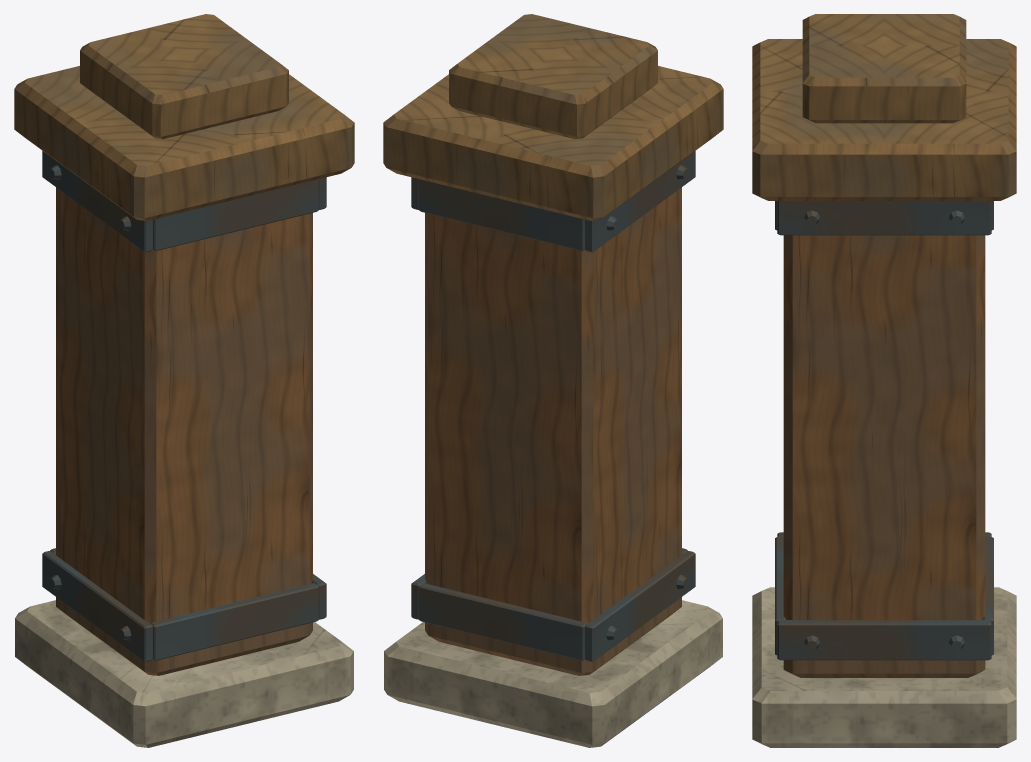
Rendered from b04_pillar.fbx.
3 renders of one model, left to right at view 1: azimuth 30°, elevation 25°; view 2: azimuth 150°, elevation 25°; view 3: azimuth 270°, elevation 25°, orthographic. The views are drawn at different scales.
Visible parts, largest first — view 1: b04_pillar; view 2: b04_pillar; view 3: b04_pillar.
Part boxes in pixels (x1,y1,x2,y2): b04_pillar: [14, 14, 354, 747]; b04_pillar: [383, 14, 723, 747]; b04_pillar: [752, 14, 1016, 747].
Bounding box in the file's own units: 8400 × 8400 × 22800.
